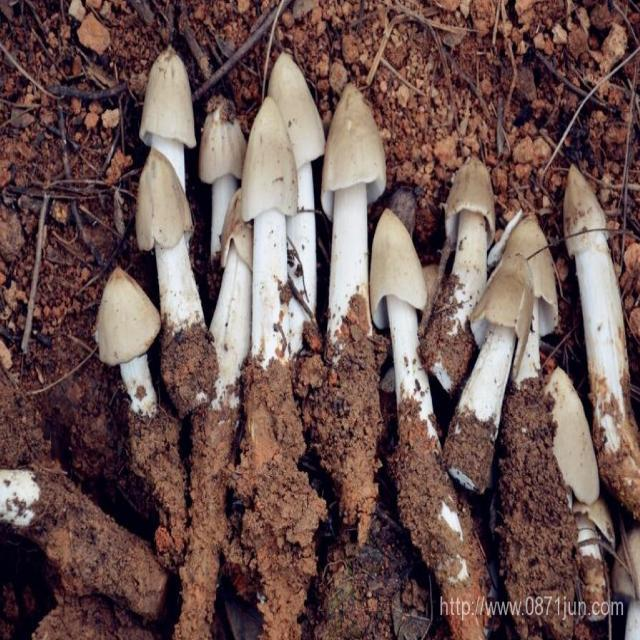Collybia albuminosa: (562, 161, 640, 471), (267, 48, 324, 350), (454, 267, 530, 481), (325, 81, 386, 333), (240, 94, 295, 368), (371, 212, 432, 427), (143, 153, 209, 333), (97, 263, 165, 423), (503, 215, 558, 383), (210, 184, 248, 401), (142, 38, 195, 193), (447, 152, 492, 333), (202, 98, 242, 254)
